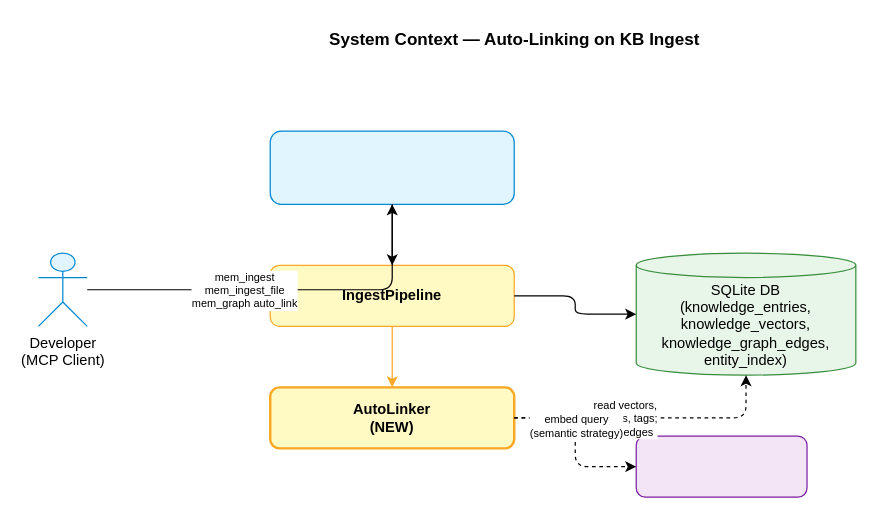
The diagram is 877 pixels wide and 519 high, and some of its shapes have lost their labels. Each missing label, with the centre of its shape:
Code Intelligence MCP Server: point (391, 167)
Embedding Service (ONNX/Ollama): point (721, 466)
